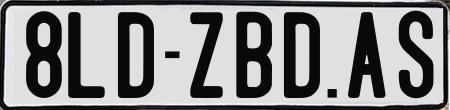8: (24, 10, 64, 98)
A: (347, 10, 388, 102)
B: (236, 10, 273, 96)
D: (118, 10, 158, 100), (284, 12, 322, 103)
L: (66, 9, 105, 100)
S: (399, 9, 434, 97)
Z: (190, 10, 229, 102)
